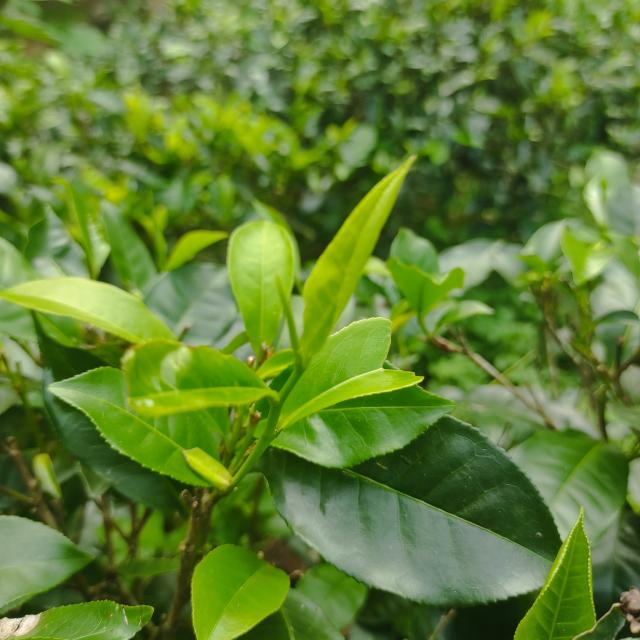unopened_leaf: (262, 258, 308, 377)
